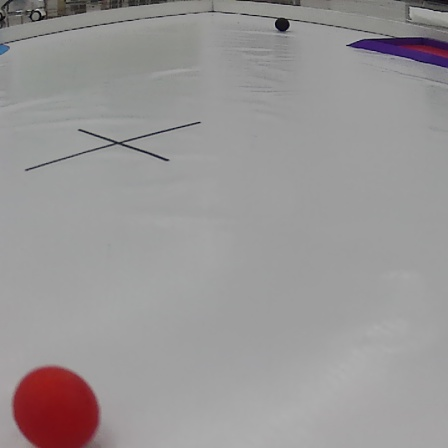black: (273, 16, 290, 32)
red: (11, 365, 106, 442)
red_aim: (344, 30, 448, 71)
